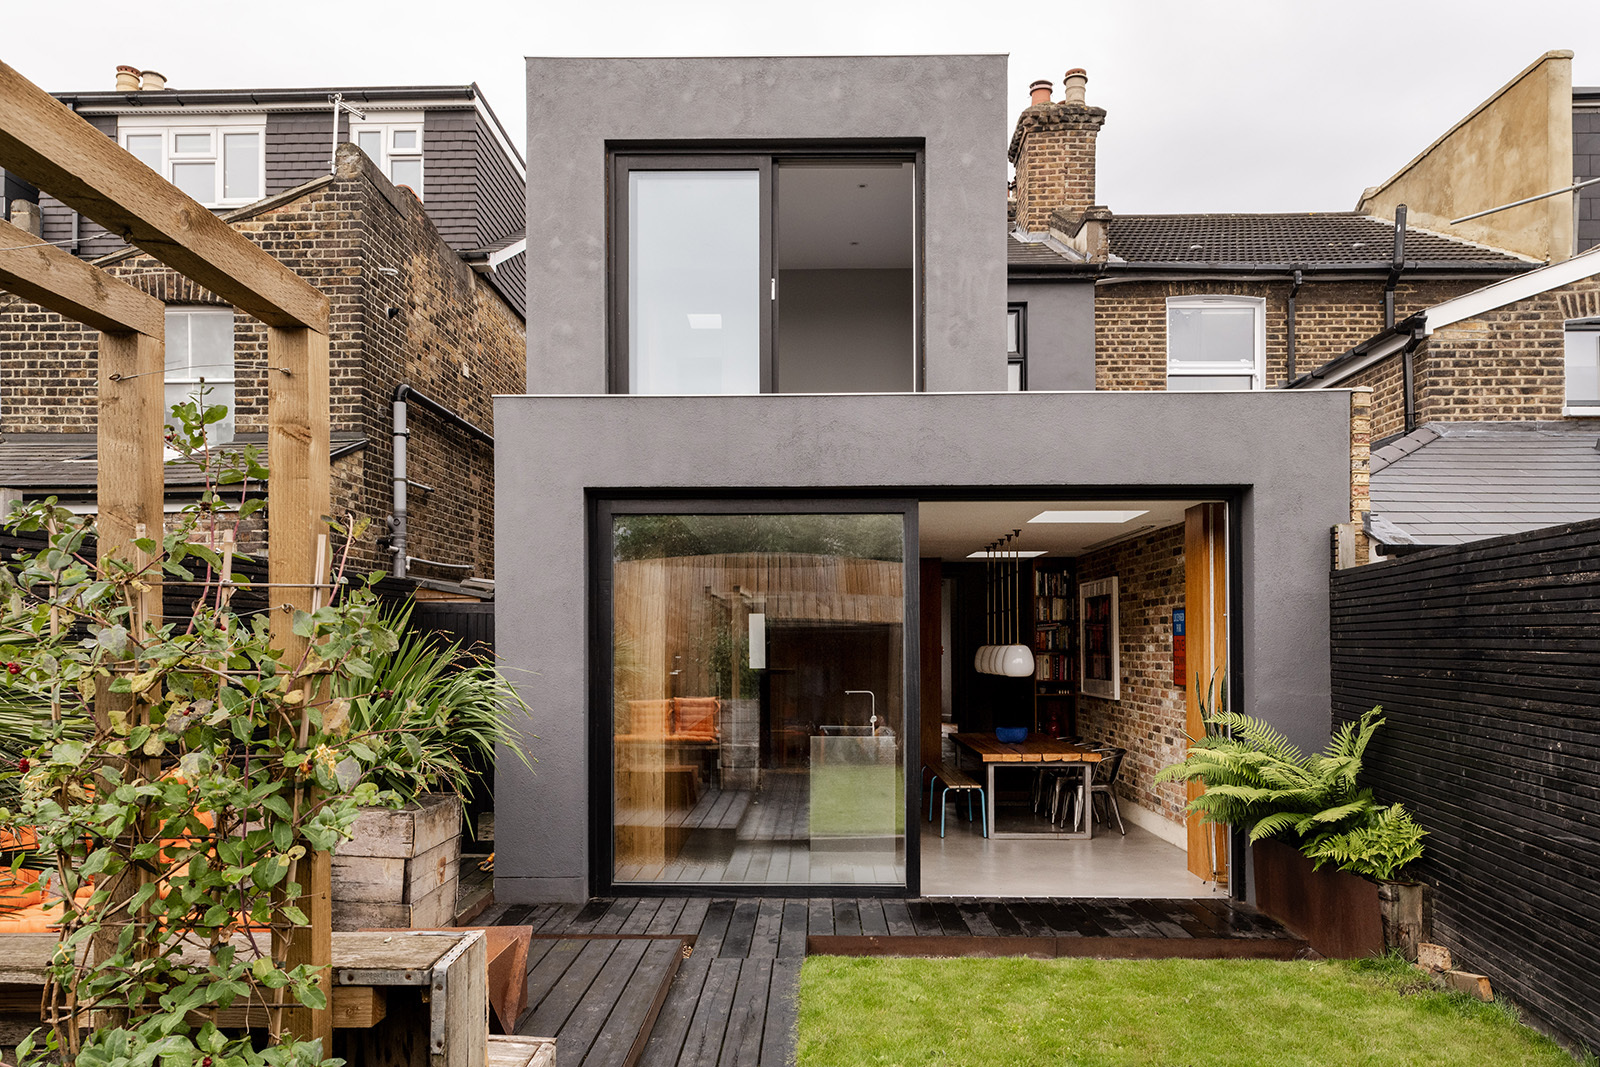Window: (585, 487, 1249, 905), (595, 143, 933, 395), (117, 116, 265, 201), (160, 311, 238, 466), (1164, 300, 1265, 389), (349, 110, 430, 196), (1560, 316, 1600, 423), (998, 302, 1031, 395)
